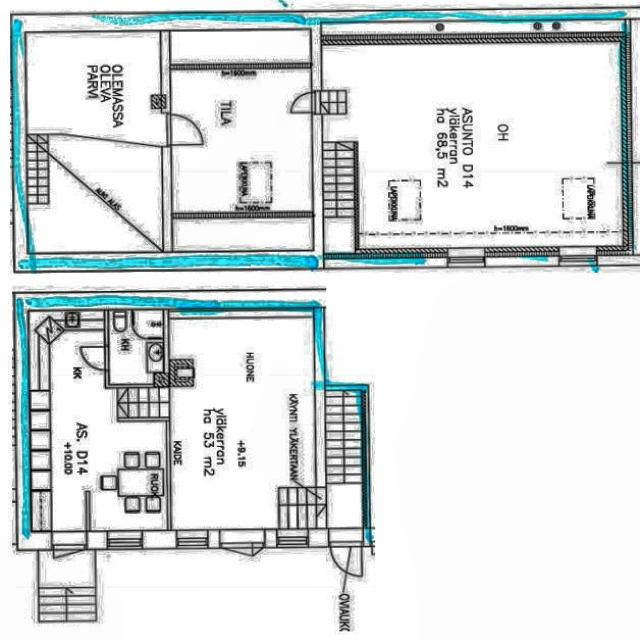Doors-dC8s: (162, 110, 172, 153), (222, 540, 264, 548), (104, 346, 113, 376), (312, 91, 320, 120), (327, 542, 365, 544), (55, 544, 90, 545)
Window: (562, 248, 598, 270), (446, 252, 490, 268), (114, 534, 146, 556), (178, 537, 204, 553), (280, 538, 310, 550)
